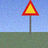sign: (22, 0, 39, 35)
